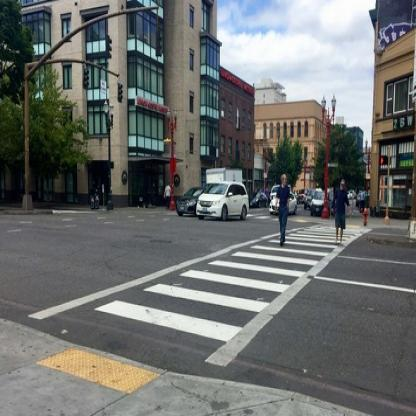Crosswalk: (41, 215, 379, 337)
Don-t Walk: (378, 154, 388, 168)
